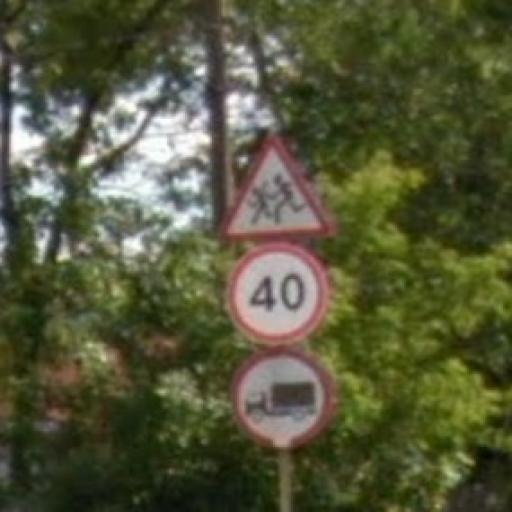traffic_sign: (218, 131, 337, 242), (231, 348, 335, 451), (227, 245, 330, 347)
